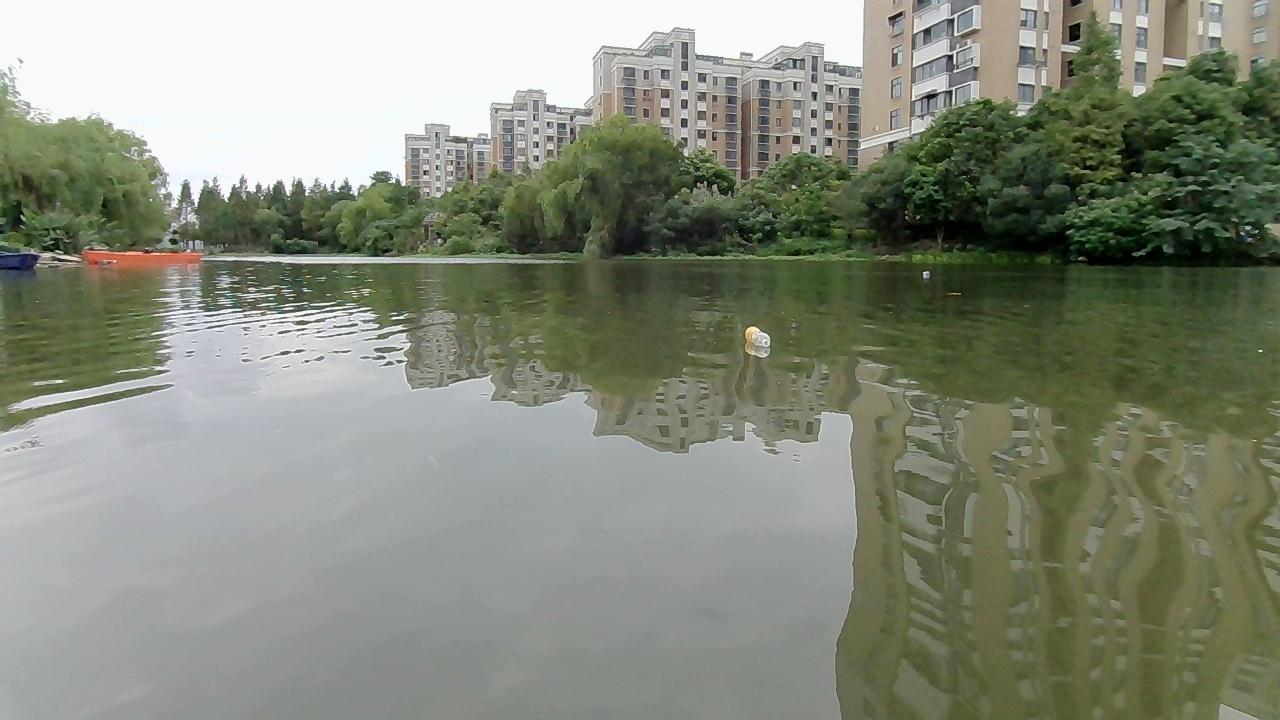bottle: (742, 322, 774, 348), (919, 269, 930, 280)
